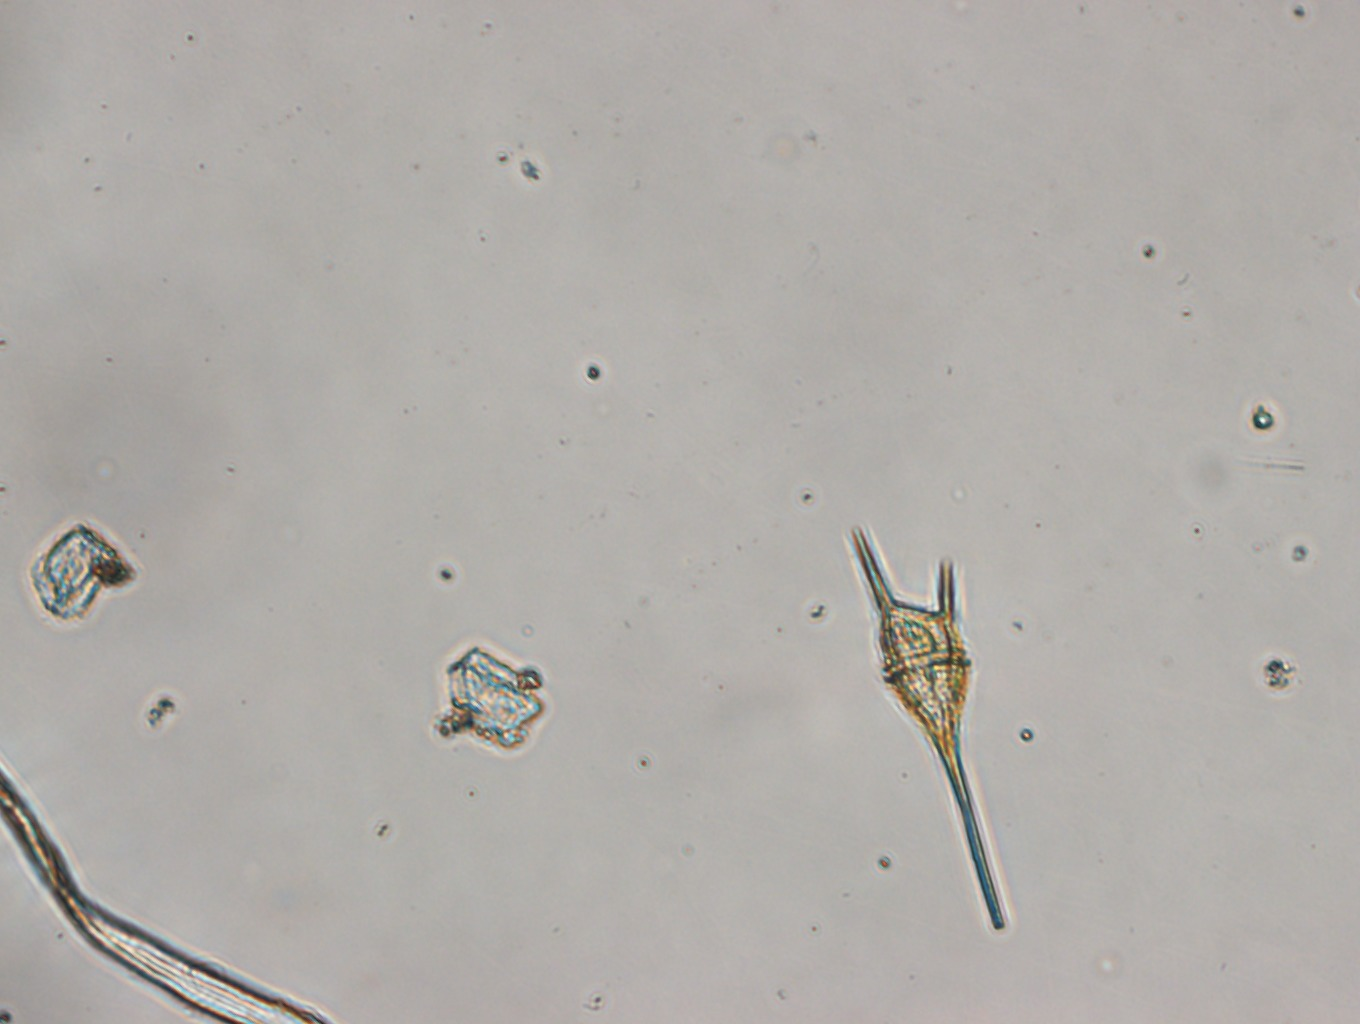ceratium furca: (850, 524, 1006, 934)
